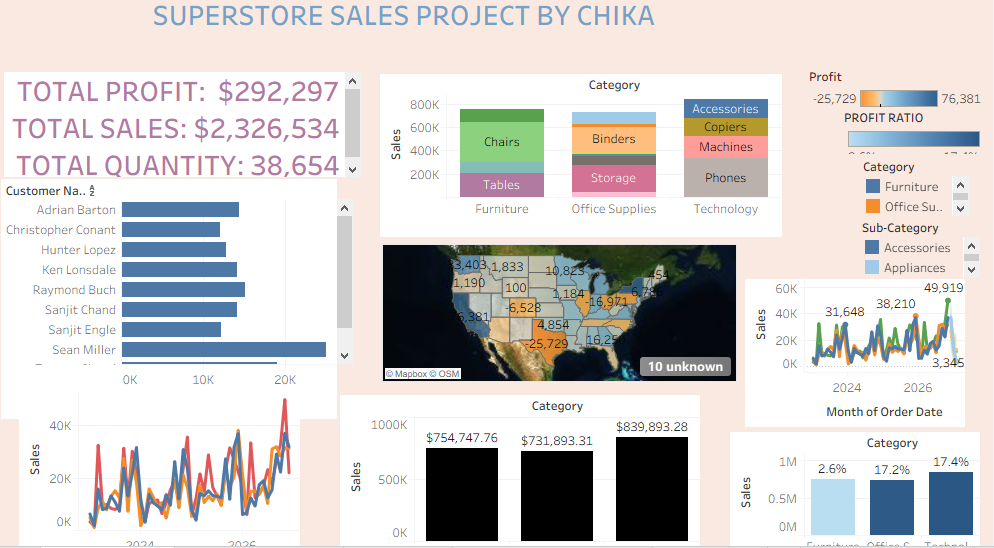

The dashboard page shown, as its layout file describes it:
{"tool":"tableau","page":{"name":"KPI DASHBOARD ","canvas":[1000,600],"ordinal":0},"visuals":[{"type":"text","box":[157,9.8,576,30.8]},{"type":"worksheet","title":"SALES BY SUB CATEGORY","mark":"Automatic","rows":["Sales"],"cols":["Category"],"box":[359,54,402,163]},{"type":"worksheet","title":"KPI","mark":"Automatic","box":[3,55,351,126]},{"type":"legend","title":"MAP BY REGION","param":"[Sample - Superstore].[sum:Profit:qk]","box":[786,56,177,39]},{"type":"legend","title":"PROFIT RATIO","param":"[Sample - Superstore].[usr:Calculation_0455263075655680:qk]","box":[812,103,140,58]},{"type":"legend","title":"MONTHLY SALES","param":"[Sample - Superstore].[none:Category:nk]","box":[826,160,108,58]},{"type":"worksheet","title":"TOP TEN CUSTOMERS BY SALES","mark":"Automatic","rows":["Customer Name"],"cols":["Sales"],"box":[3,172,342,210]},{"type":"legend","title":"SALES BY SUB CATEGORY","param":"[Sample - Superstore].[none:Sub-Category:nk]","box":[829,217,120,59]},{"type":"worksheet","title":"MAP BY REGION","mark":"Automatic","box":[345,224,355,138]},{"type":"worksheet","title":"FORECAST","mark":"Automatic","rows":["Sales"],"cols":["Order Date"],"box":[700,272,259,148]},{"type":"worksheet","title":"SALES BY CATEGORY","mark":"Automatic","rows":["Sales"],"cols":["Category"],"box":[344,365,360,186]},{"type":"worksheet","title":"MONTHLY SALES","mark":"Automatic","rows":["Sales"],"cols":["Order Date"],"box":[2,384,328,186]},{"type":"worksheet","title":"PROFIT RATIO","mark":"Automatic","rows":["Sales"],"cols":["Category"],"box":[707,421,250,136]}]}

Visuals, with their boxes on the page's 1000x600 design canvas (x1, y1, x2, y2). These are canvas units, not pixel positions in the 994x548 screenshot, which may show the page scaled, cropped or inside an application window:
text: x1=157, y1=10, x2=733, y2=41
"SALES BY SUB CATEGORY" worksheet: x1=359, y1=54, x2=761, y2=217
"KPI" worksheet: x1=3, y1=55, x2=354, y2=181
"MAP BY REGION" legend: x1=786, y1=56, x2=963, y2=95
"PROFIT RATIO" legend: x1=812, y1=103, x2=952, y2=161
"MONTHLY SALES" legend: x1=826, y1=160, x2=934, y2=218
"TOP TEN CUSTOMERS BY SALES" worksheet: x1=3, y1=172, x2=345, y2=382
"SALES BY SUB CATEGORY" legend: x1=829, y1=217, x2=949, y2=276
"MAP BY REGION" worksheet: x1=345, y1=224, x2=700, y2=362
"FORECAST" worksheet: x1=700, y1=272, x2=959, y2=420
"SALES BY CATEGORY" worksheet: x1=344, y1=365, x2=704, y2=551
"MONTHLY SALES" worksheet: x1=2, y1=384, x2=330, y2=570
"PROFIT RATIO" worksheet: x1=707, y1=421, x2=957, y2=557
